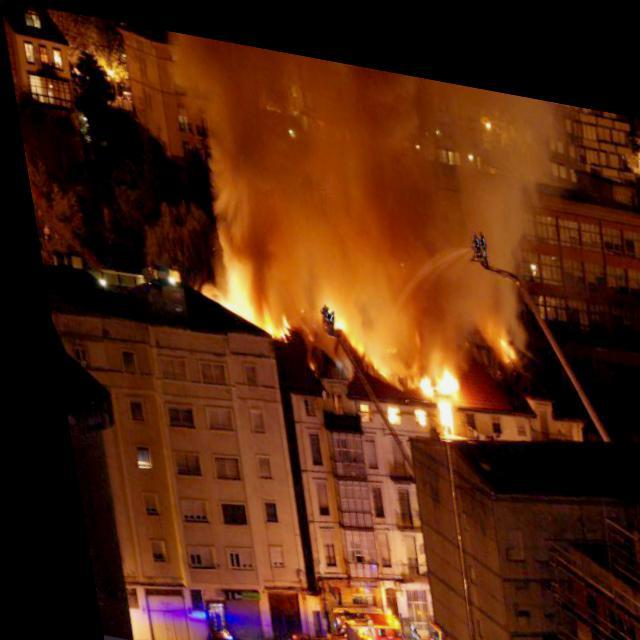Fire: (204, 271, 288, 339), (396, 343, 450, 417), (316, 294, 342, 325), (484, 316, 506, 346), (370, 389, 390, 414)
